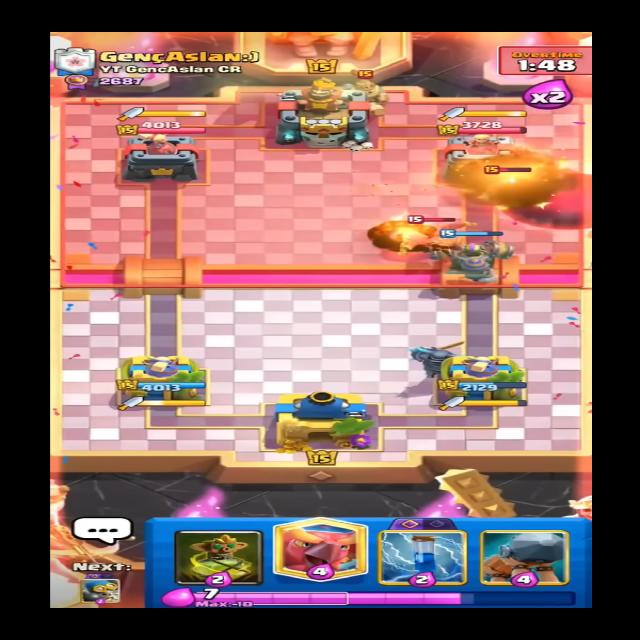phoenix: (376, 209, 486, 258)
prince: (328, 67, 399, 122)
